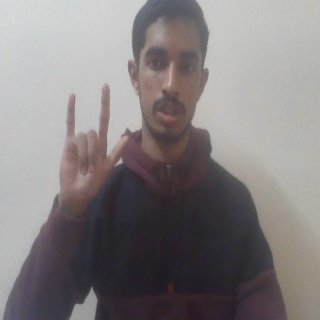Face: (126, 2, 211, 143)
I Love You: (58, 81, 130, 213)
